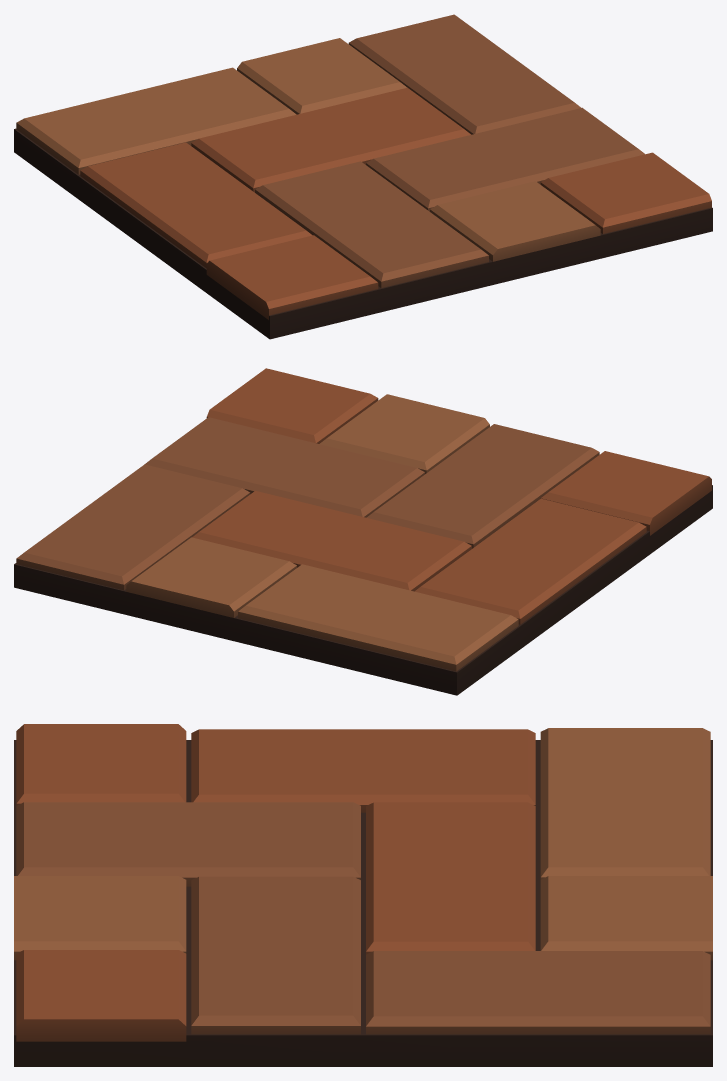
File: floor_parquet_small_D.glb
The picture shows the model from 3 angles, top to bottom: view 1: azimuth 30°, elevation 25°; view 2: azimuth 150°, elevation 25°; view 3: azimuth 270°, elevation 25°; orthographic projection. The views are drawn at different scales.
Parts seen in each view (by area): view 1: Item; view 2: Item; view 3: Item.
Part boxes in pixels (x1,y1,x2,y2): Item: (14, 14, 712, 339); Item: (14, 368, 712, 695); Item: (14, 724, 712, 1066).
Bounding box in the file's own units: 2 × 0.1506 × 2.
Materials: 1 (1 with a texture image).
